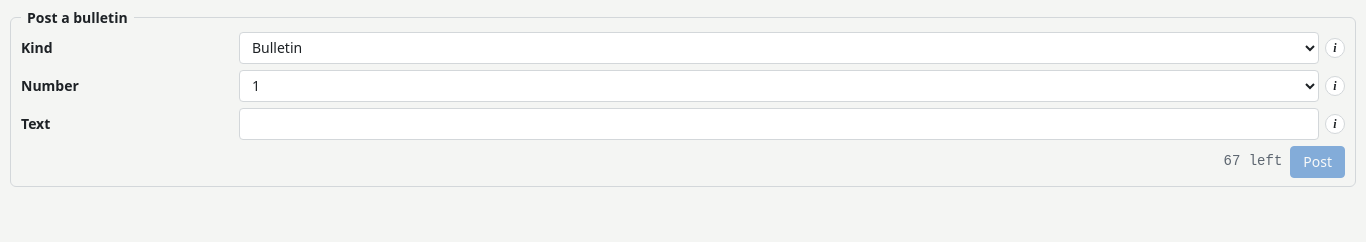
it: every field has an (i) › in the Bulletins box (the group field too) and the Email box
Select "Bulletin to a group" in the dropdown labelled "Kind" at (779, 48), box [239,32,1319,64]
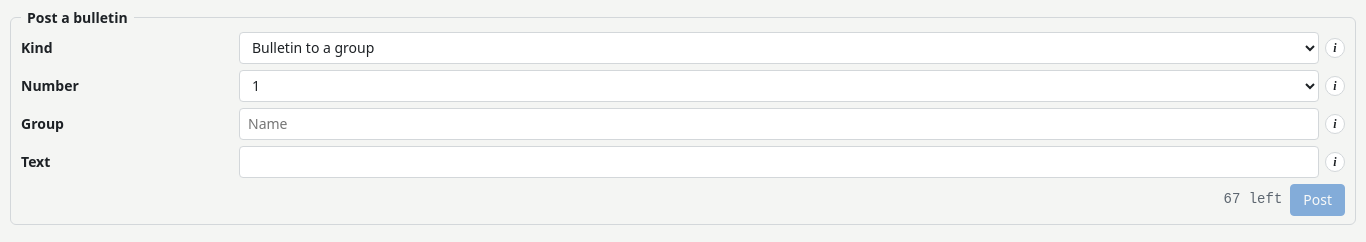
Expected: the field labelled "Group" is shown, [239,108,1319,140]
